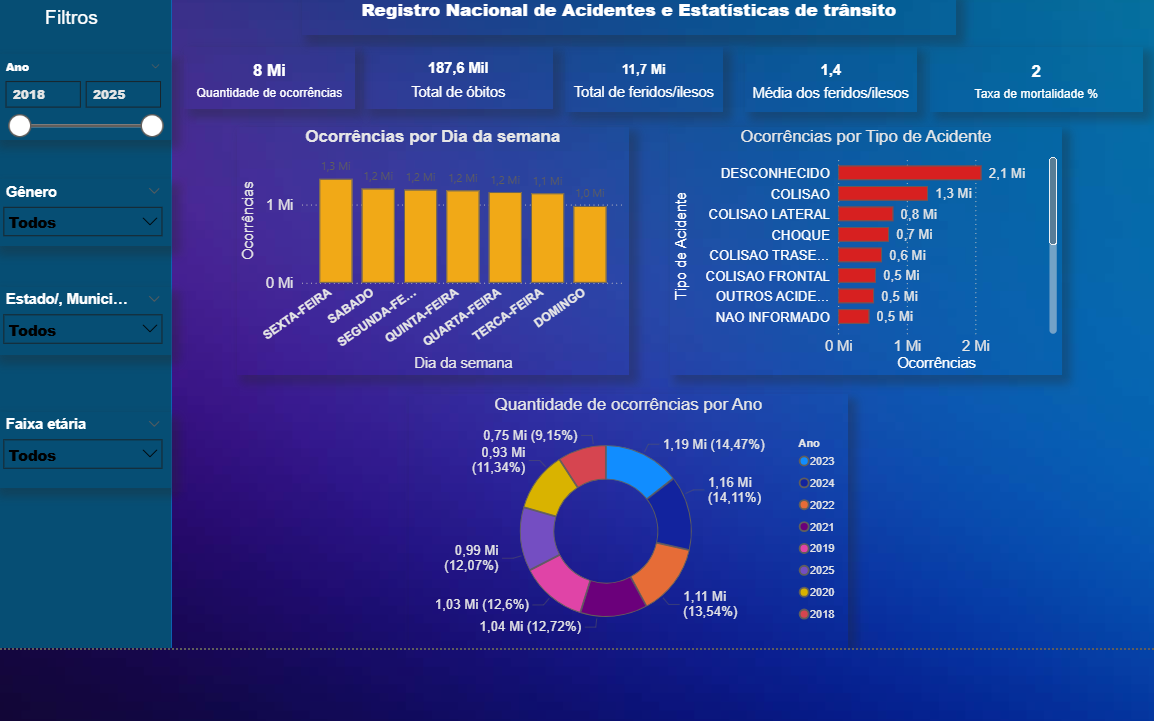

This screenshot's page, from the dashboard's own definition file:
{"tool":"powerbi","page":{"name":"Página 2","canvas":[1280,720],"ordinal":1},"visuals":[{"type":"shape","box":[0,0,195.3,720.3],"z":0,"group":"g1"},{"type":"clusteredColumnChart","fields":{"Category":["Acidentes_DadosAbertos_20260212.dia_semana"],"Y":["CountNonNull(Acidentes_DadosAbertos_20260212.Código_acidente)"]},"box":[266.2,146.8,430.9,273.1],"z":0},{"type":"slicer","fields":{"Values":["Vitimas_DadosAbertos_20260212.ano_acidente"]},"box":[0,66.8,194.8,93.2],"z":1000,"group":"g1"},{"type":"clusteredBarChart","fields":{"Category":["Acidentes_DadosAbertos_20260212.tp_acidente"],"Y":["CountNonNull(Acidentes_DadosAbertos_20260212.Código_acidente)"]},"box":[742.4,146.8,429.5,273.1],"z":1000},{"type":"group","id":"g1","title":"Grupo 1","box":[0,0,195.1,720],"z":2000},{"type":"slicer","fields":{"Values":["Vitimas_DadosAbertos_20260212.genero"]},"box":[0,204.5,194.8,73.7],"z":2000,"group":"g1"},{"type":"textbox","box":[338.2,0,718.6,46.3],"z":3000},{"type":"slicer","fields":{"Values":["Vitimas_DadosAbertos_20260212.faixa_idade"]},"box":[0,459.1,194.8,83.5],"z":3000,"group":"g1"},{"type":"card","fields":{"Values":["Acidentes_DadosAbertos_20260212.Total de Acidentes"]},"box":[208.6,59,188,68.6],"z":4000},{"type":"slicer","fields":{"Values":["Localidade_DadosAbertos_20260212.uf","Localidade_DadosAbertos_20260212.municipio"]},"box":[0,322.8,194.8,75.1],"z":4000,"group":"g1"},{"type":"textbox","box":[32,9.7,107.1,57],"z":4500,"group":"g1"},{"type":"donutChart","fields":{"Category":["Acidentes_DadosAbertos_20260212.ano_acidente"],"Y":["CountNonNull(Acidentes_DadosAbertos_20260212.Código_acidente)"]},"box":[455.6,446,463.8,274.4],"z":5000},{"type":"card","fields":{"Values":["Sum(Vitimas_DadosAbertos_20260212.qtde_obitos)"]},"box":[406.2,59,207.2,68.6],"z":6000},{"type":"card","fields":{"Values":["Sum(Vitimas_DadosAbertos_20260212.qtde_feridosilesos)"]},"box":[627.1,59,172.9,71.4],"z":7000},{"type":"card","fields":{"Values":["Avg(Acidentes_DadosAbertos_20260212.qtde_feridosilesos)"]},"box":[824.7,59,188,71.4],"z":8000},{"type":"card","fields":{"Values":["Acidentes_DadosAbertos_20260212.Média de Óbitos p/ Acidente"]},"box":[1027.8,59,233.3,71.4],"z":9000}]}

Visuals, with their boxes on the page's 1280x720 design canvas (x1, y1, x2, y2). These are canvas units, not pixel positions in the 1154x721 screenshot, which may show the page scaled, cropped or inside an application window:
shape: <region>0, 0, 195, 720</region>
clusteredColumnChart - Acidentes_DadosAbertos_20260212.dia_semana x CountNonNull(Acidentes_DadosAbertos_20260212.Código_acidente): <region>266, 147, 697, 420</region>
slicer - Vitimas_DadosAbertos_20260212.ano_acidente: <region>0, 67, 195, 160</region>
clusteredBarChart - Acidentes_DadosAbertos_20260212.tp_acidente x CountNonNull(Acidentes_DadosAbertos_20260212.Código_acidente): <region>742, 147, 1172, 420</region>
"Grupo 1" group: <region>0, 0, 195, 720</region>
slicer - Vitimas_DadosAbertos_20260212.genero: <region>0, 204, 195, 278</region>
textbox: <region>338, 0, 1057, 46</region>
slicer - Vitimas_DadosAbertos_20260212.faixa_idade: <region>0, 459, 195, 543</region>
card - Acidentes_DadosAbertos_20260212.Total de Acidentes: <region>209, 59, 397, 128</region>
slicer - Localidade_DadosAbertos_20260212.uf x Localidade_DadosAbertos_20260212.municipio: <region>0, 323, 195, 398</region>
textbox: <region>32, 10, 139, 67</region>
donutChart - Acidentes_DadosAbertos_20260212.ano_acidente x CountNonNull(Acidentes_DadosAbertos_20260212.Código_acidente): <region>456, 446, 919, 720</region>
card - Sum(Vitimas_DadosAbertos_20260212.qtde_obitos): <region>406, 59, 613, 128</region>
card - Sum(Vitimas_DadosAbertos_20260212.qtde_feridosilesos): <region>627, 59, 800, 130</region>
card - Avg(Acidentes_DadosAbertos_20260212.qtde_feridosilesos): <region>825, 59, 1013, 130</region>
card - Acidentes_DadosAbertos_20260212.Média de Óbitos p/ Acidente: <region>1028, 59, 1261, 130</region>
